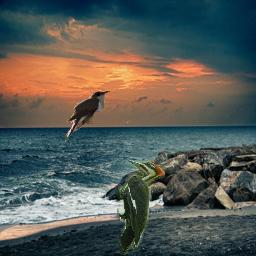Cuckoo: (65, 90, 110, 143)
Woodpecker: (117, 160, 165, 255)
